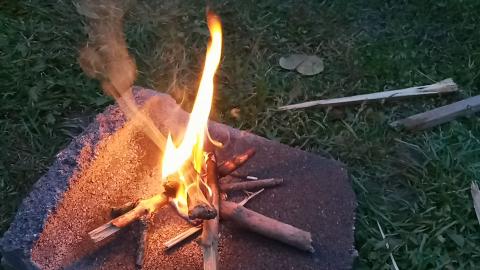fire: (157, 8, 226, 197)
